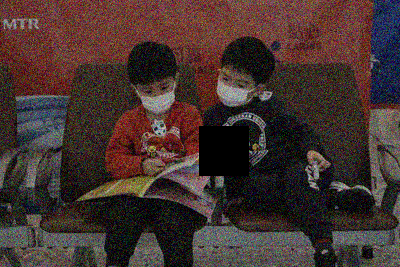with_mask: (138, 79, 176, 116), (217, 70, 255, 107)
